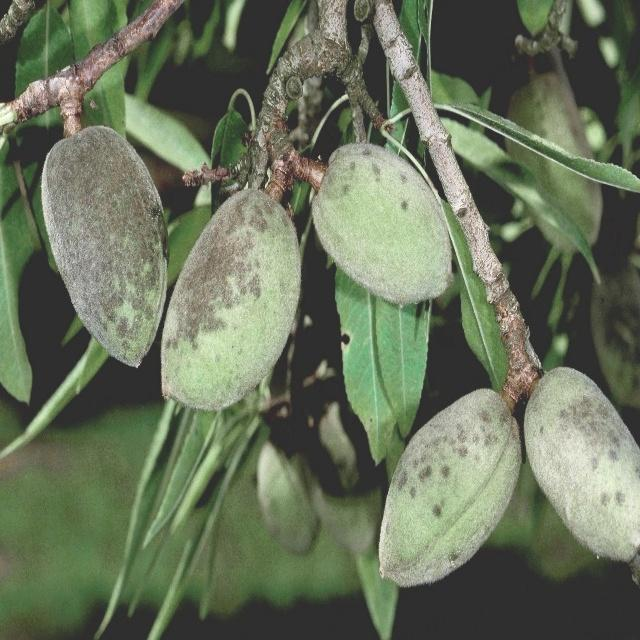leaf_spot: (168, 174, 302, 435), (393, 358, 527, 619), (39, 117, 172, 378)
